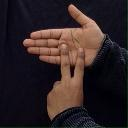hand: (22, 3, 105, 68), (46, 43, 85, 123)
